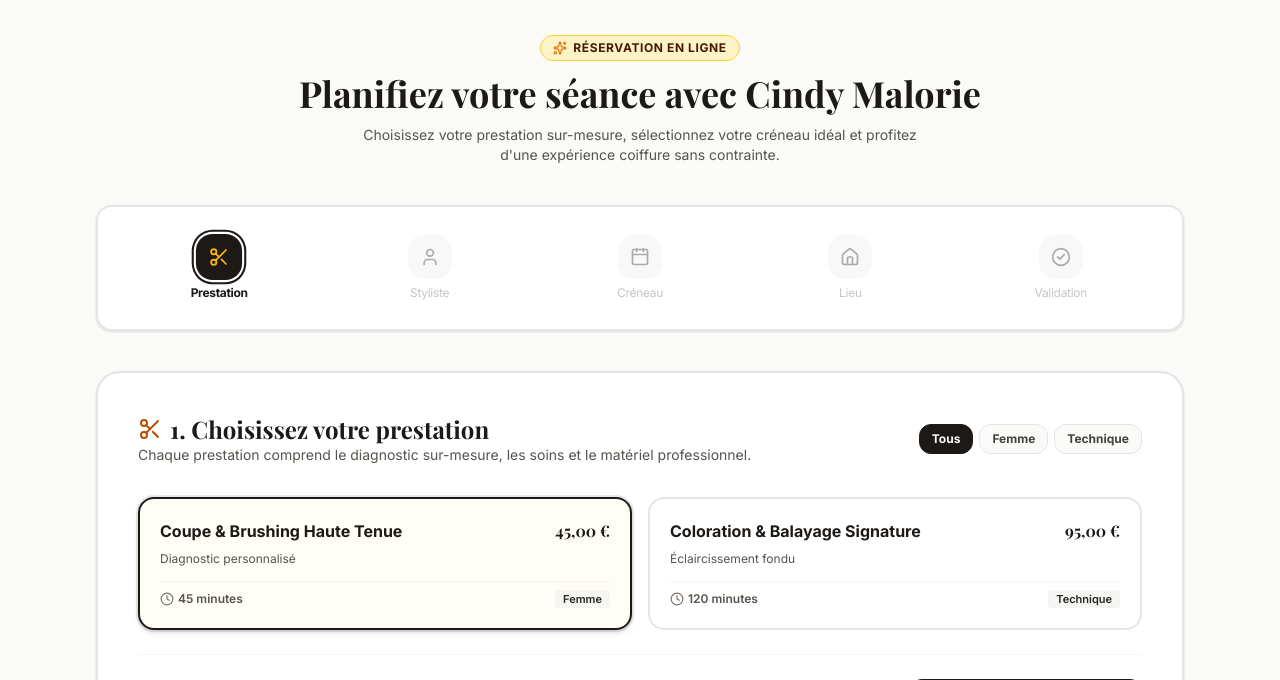
Test: Reservation Page › affiche le workflow étape par étape jusqu’au choix du lieu
Sélectionner service et passer à l'étape suivante
Click the text "Coupe & Brushing Haute Tenue" at (281, 531), box [160,519,402,543]
(page scrolled)
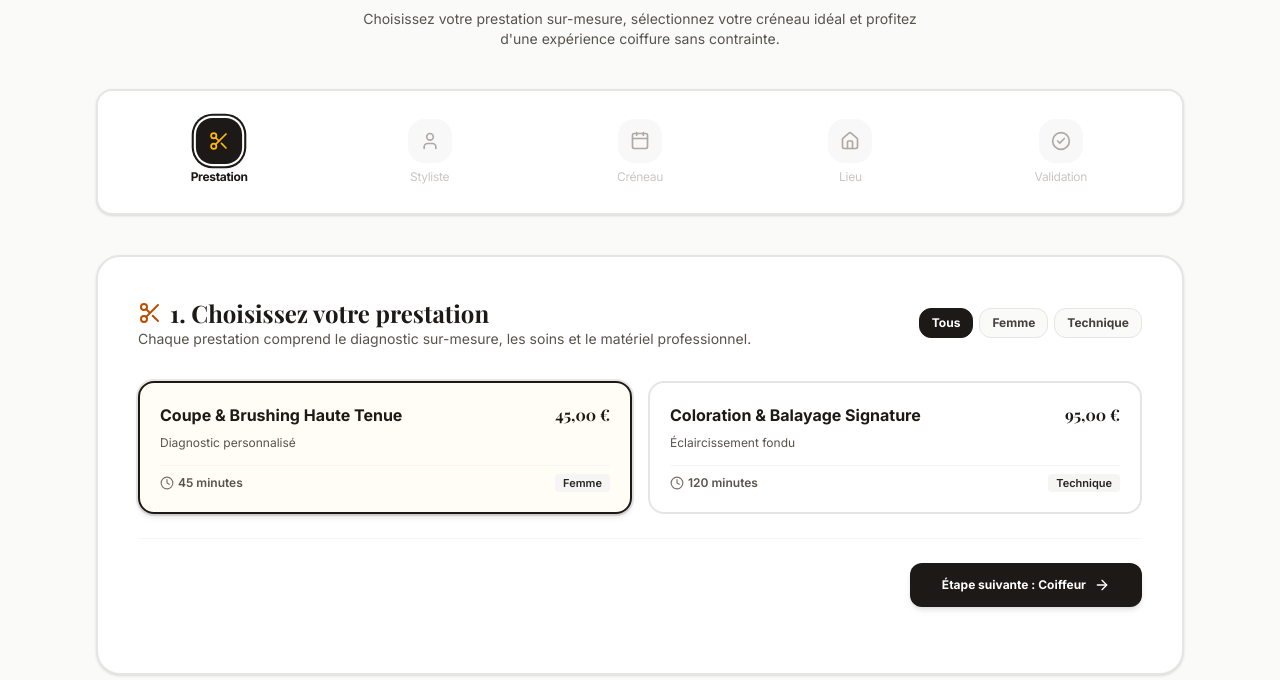
Click the button "Étape suivante : Coiffeur" at (1026, 585), box [910,563,1142,607]
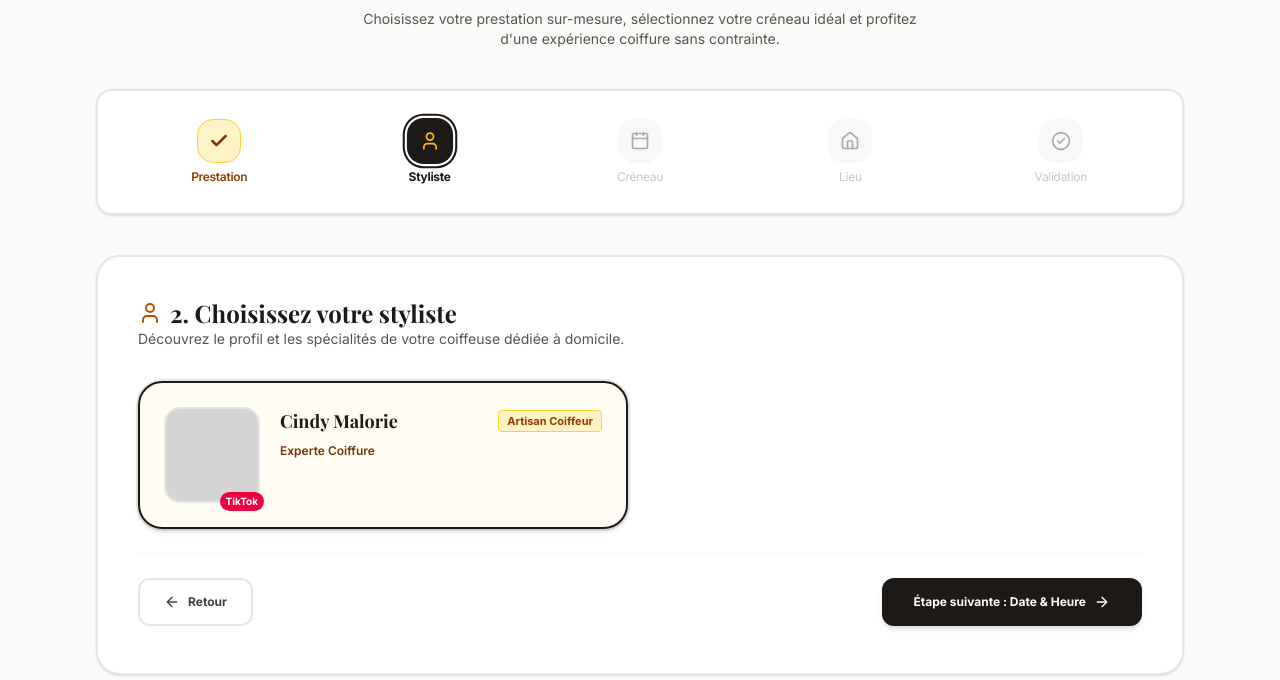
Check: the heading "2. Choisissez votre styliste" is shown, box [138,297,457,329]
Click the button "Étape suivante : Date & Heure" at (1012, 602), box [882,578,1142,626]
(page scrolled)
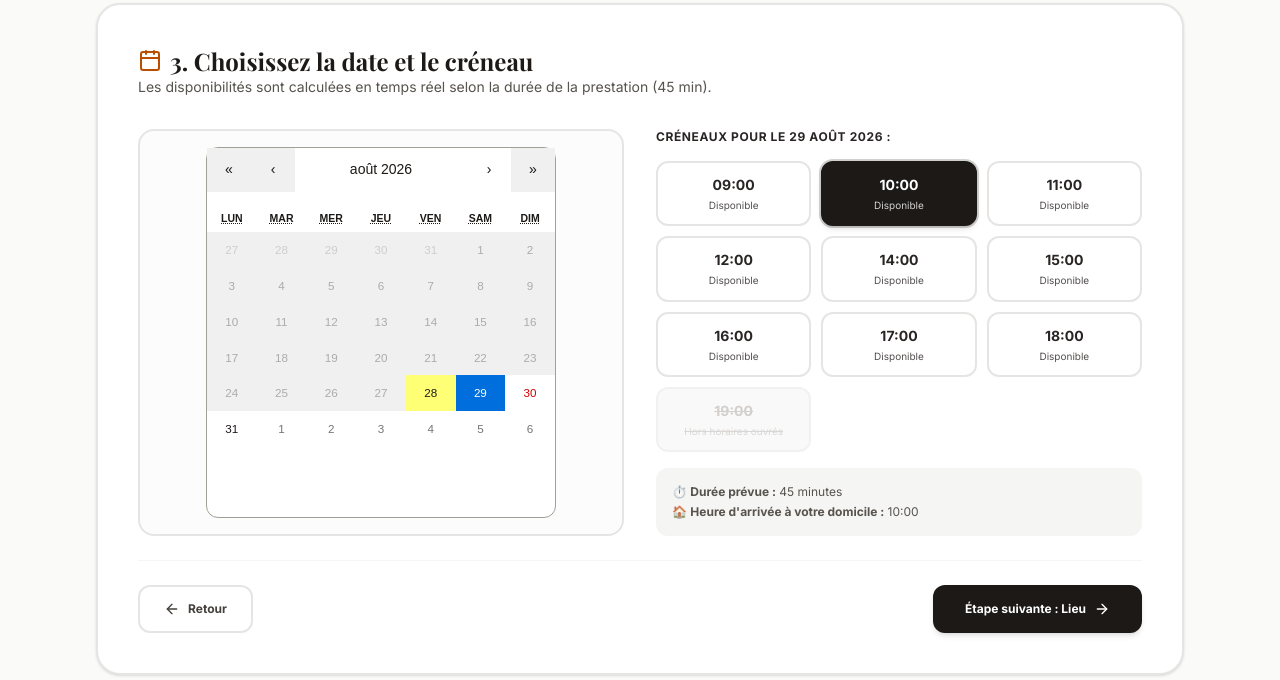
Check: the heading "3. Choisissez la date et le créneau" is shown, box [138,45,533,77]
Click the button "Étape suivante : Lieu" at (1038, 609), box [933,585,1142,633]
(page scrolled)
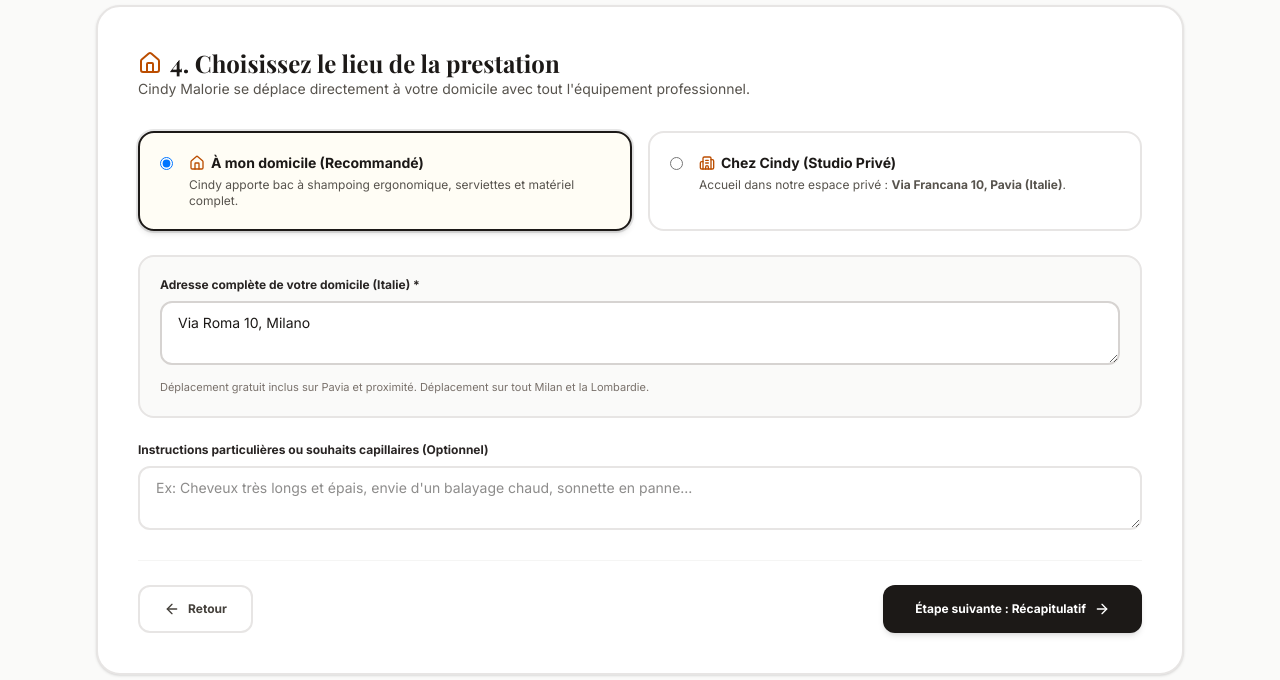
Check: the text "À mon domicile (Recommandé)" is shown, box [189,154,424,171]
Check: the text "Chez Cindy (Studio Privé)" is shown, box [699,154,896,171]
